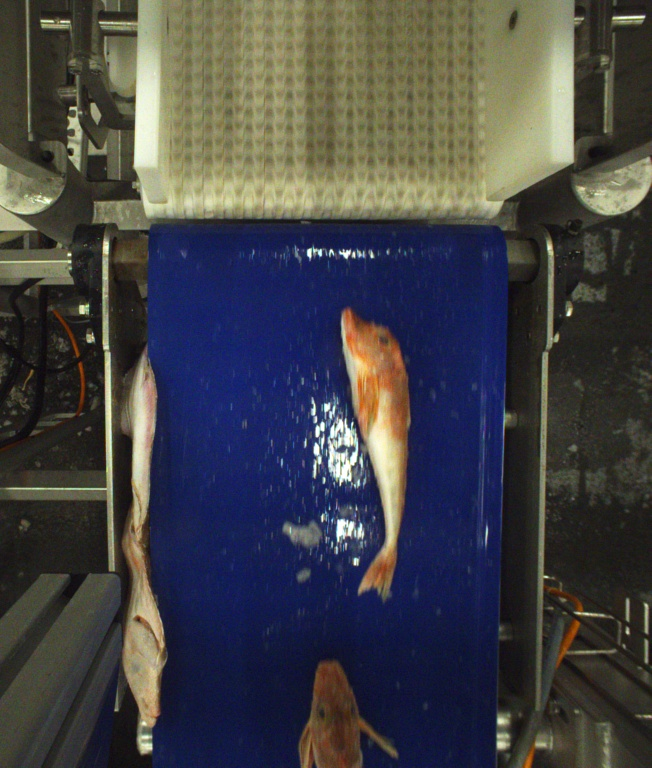GUU: (339, 307, 414, 602)
